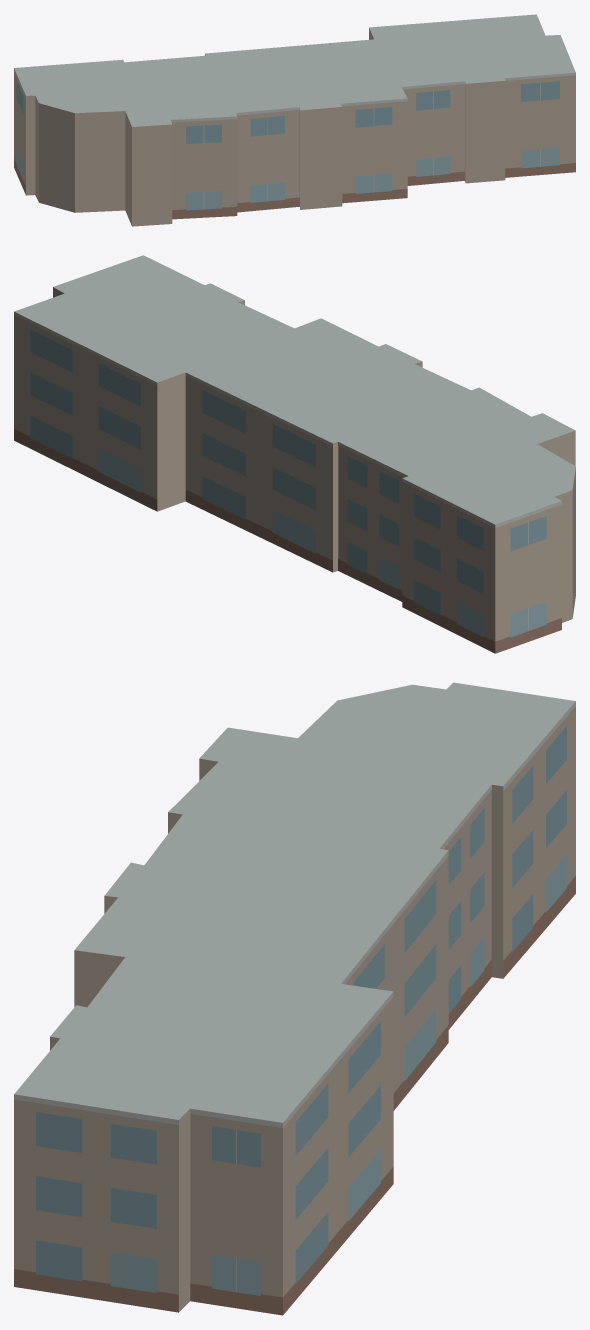
File: survey-upis-32773929.glb
3 renders of one model, top to bottom at view 1: azimuth 30°, elevation 25°; view 2: azimuth 150°, elevation 25°; view 3: azimuth 270°, elevation 25°, orthographic. The views are drawn at different scales.
Parts seen in each view (by area): view 1: survey-upis-32773929.tmp; view 2: survey-upis-32773929.tmp; view 3: survey-upis-32773929.tmp.
Part boxes in pixels (box(x1,y1,x2,y2)): survey-upis-32773929.tmp: box(14, 14, 575, 226); survey-upis-32773929.tmp: box(14, 255, 575, 653); survey-upis-32773929.tmp: box(14, 682, 575, 1315).
Size of the model in its own units: 44.89 by 9.15 by 24.2.
